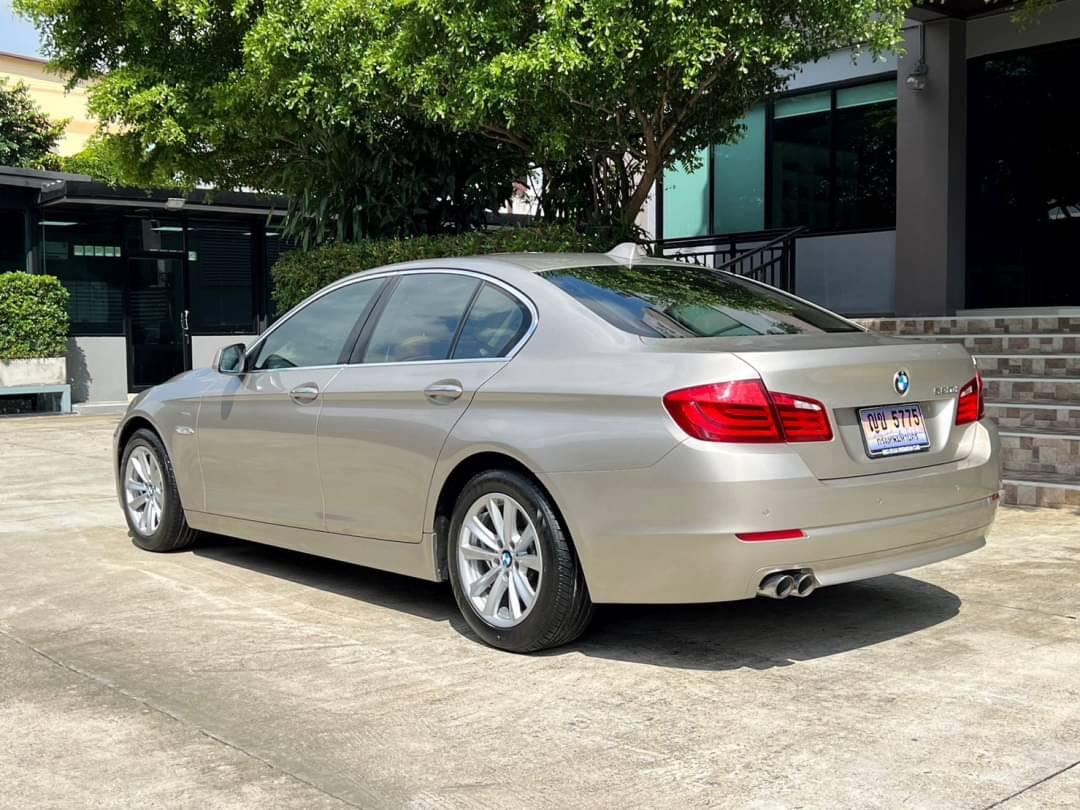license-plate: (853, 400, 932, 459)
